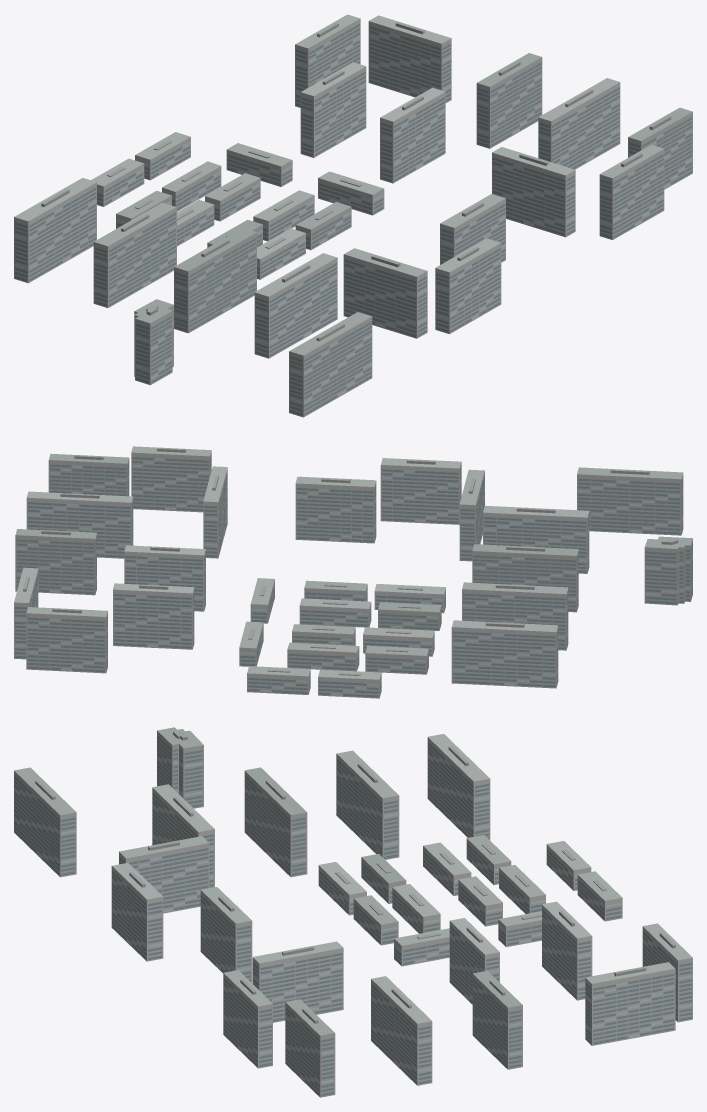
Rendered from apt-a15807605.glb.
The picture shows the model from 3 angles, top to bottom: view 1: azimuth 30°, elevation 25°; view 2: azimuth 150°, elevation 25°; view 3: azimuth 270°, elevation 25°; orthographic projection. The views are drawn at different scales.
Parts seen in each view (by area): view 1: apt-a15807605; view 2: apt-a15807605; view 3: apt-a15807605.
Part boxes in pixels (x1,y1,x2,y2): apt-a15807605: (14,14,692,417); apt-a15807605: (14,446,692,698); apt-a15807605: (14,727,692,1097).
Bounding box in the file's own units: 488 × 47.81 × 454.
